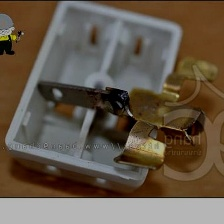three_eye_plug: (0, 1, 221, 196)
